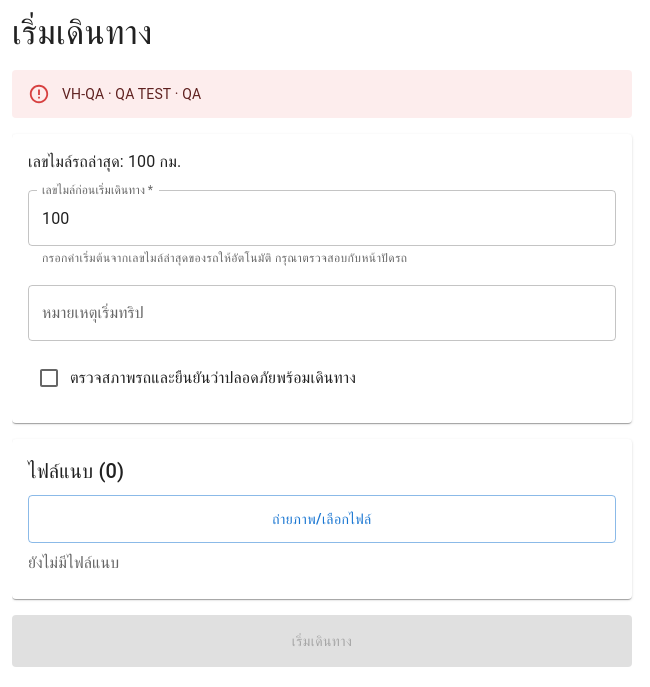
Test: Fleet M4.2 mobile driver UI › requires safety confirmation before start
The width and height of the screenshot is (650, 687).
Expected: the button "เริ่มเดินทาง" is disabled, x1=12 y1=615 x2=632 y2=667
Click the checkbox labelled "ตรวจสภาพรถและยืนยันว่าปลอดภัยพร้อมเดินทาง".
click(196, 378)  # box x1=37 y1=366 x2=356 y2=390
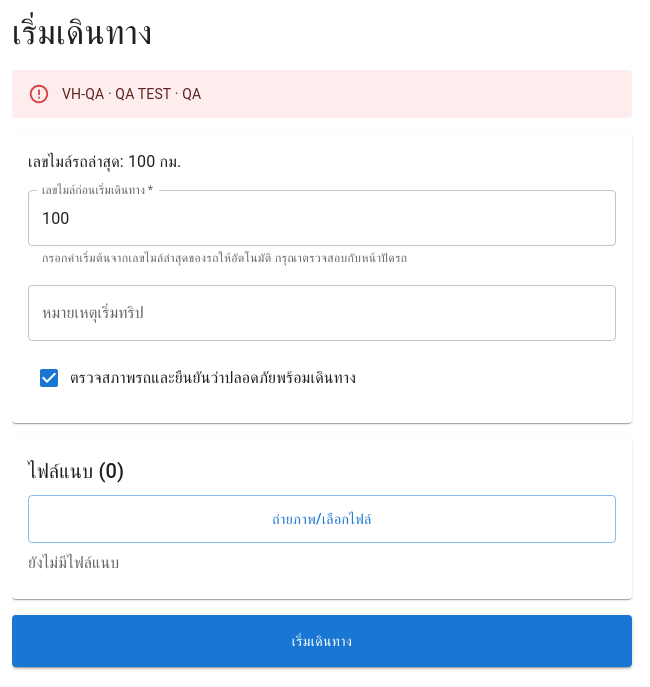
Expected: the button "เริ่มเดินทาง" is enabled, x1=12 y1=615 x2=632 y2=667
